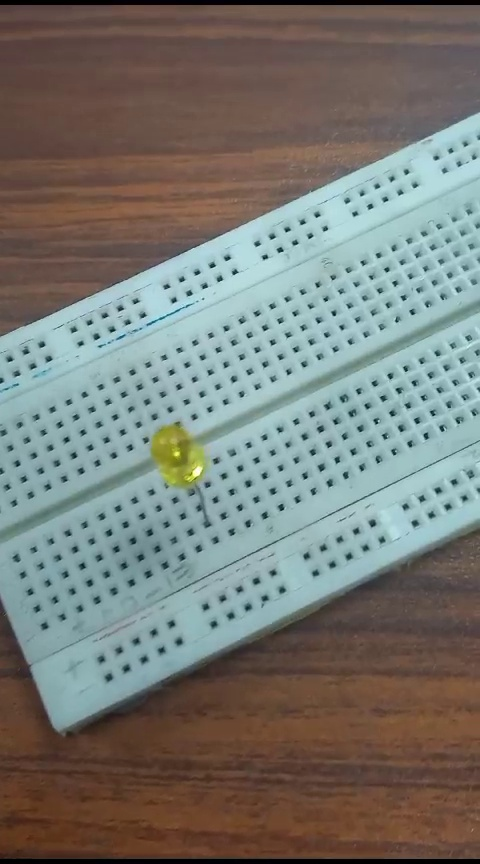LED: (128, 419, 224, 537)
